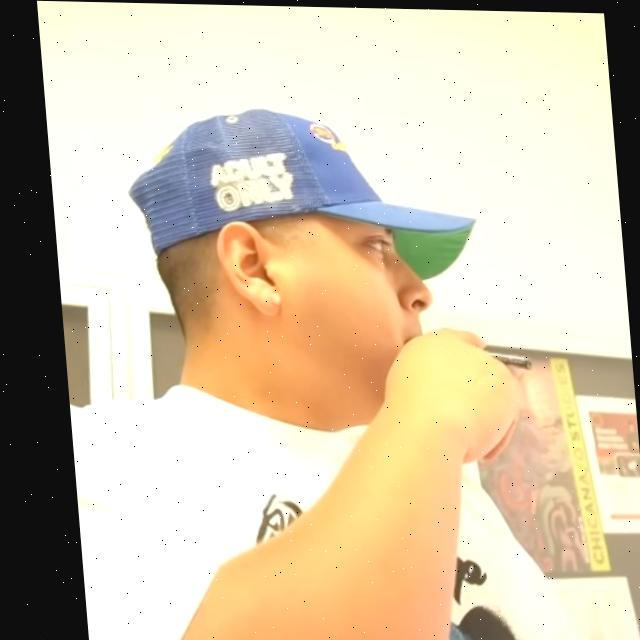vape: (482, 351, 527, 368)
